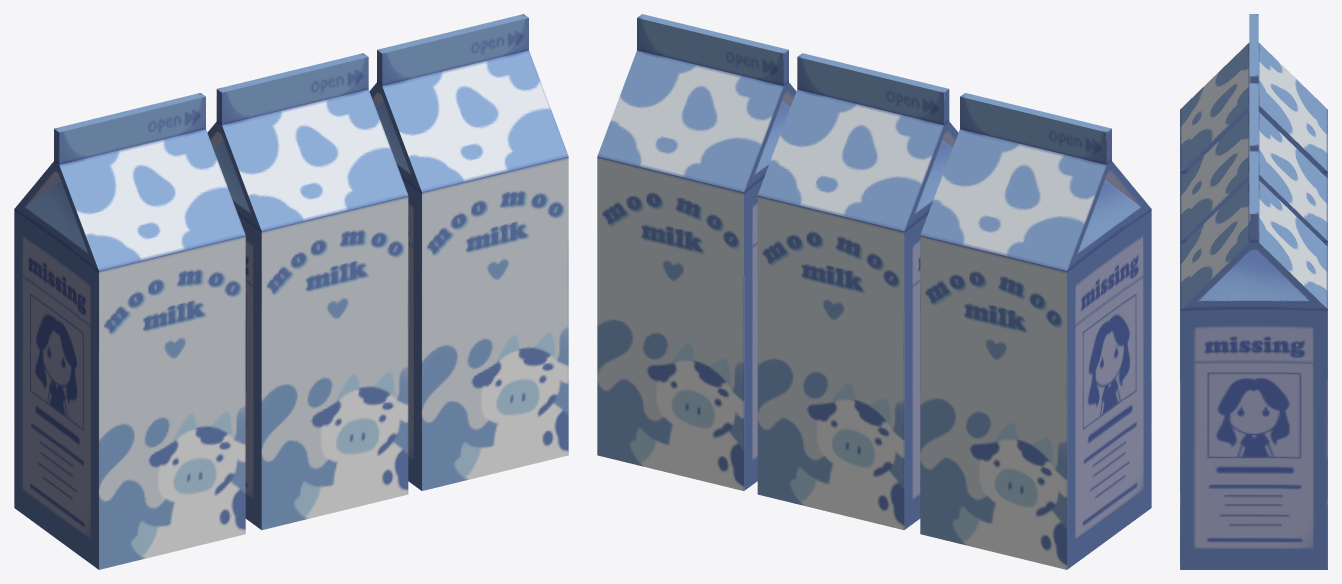
The model's file is milk.fbx.
The picture shows the model from 3 angles, left to right: view 1: azimuth 30°, elevation 25°; view 2: azimuth 150°, elevation 25°; view 3: azimuth 270°, elevation 25°; orthographic projection. The views are drawn at different scales.
Visible parts, largest first — view 1: milk; view 2: milk; view 3: milk.
Part boxes in pixels (left/top/right/bottom): milk: left=14, top=14, right=568, bottom=569; milk: left=597, top=14, right=1151, bottom=569; milk: left=1180, top=14, right=1327, bottom=569.
Bounding box in the file's own units: 33.56 × 27.89 × 10.48.
Materials: 1 (1 with a texture image).
